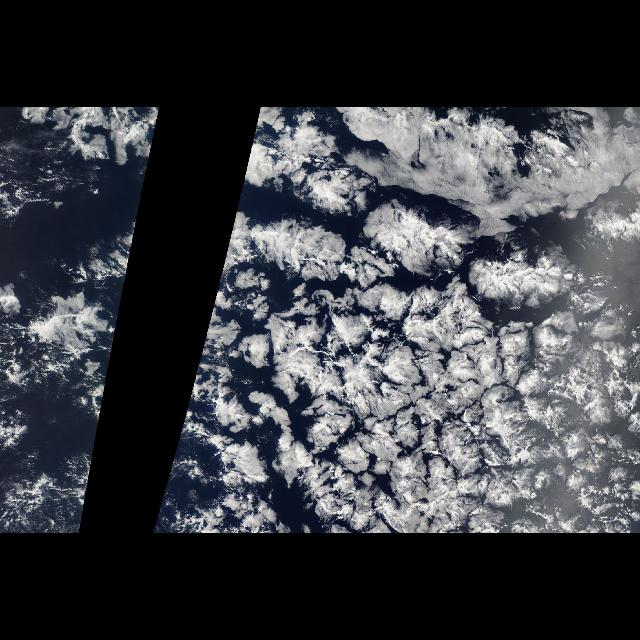Flower: (222, 134, 636, 528)
